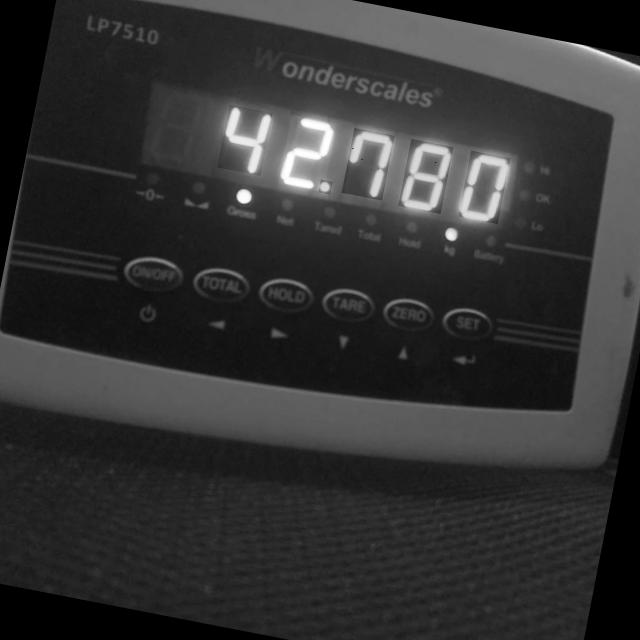.: (318, 180, 332, 194)
0: (458, 151, 511, 224)
2: (278, 115, 336, 192)
4: (218, 105, 272, 176)
7: (342, 128, 394, 201)
8: (398, 139, 454, 214)
